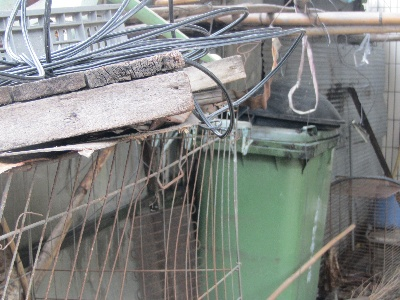bowl: (240, 79, 347, 126)
bucket: (195, 127, 343, 299)
